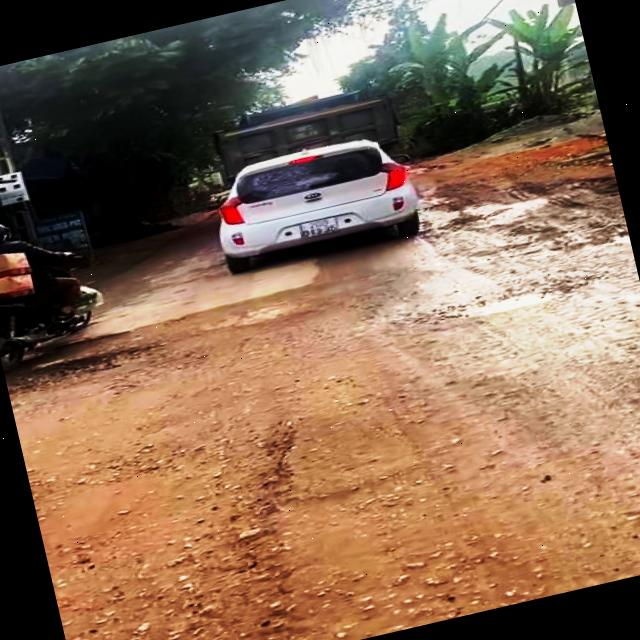pothole: (22, 387, 359, 640), (5, 330, 172, 400), (430, 275, 570, 332)
